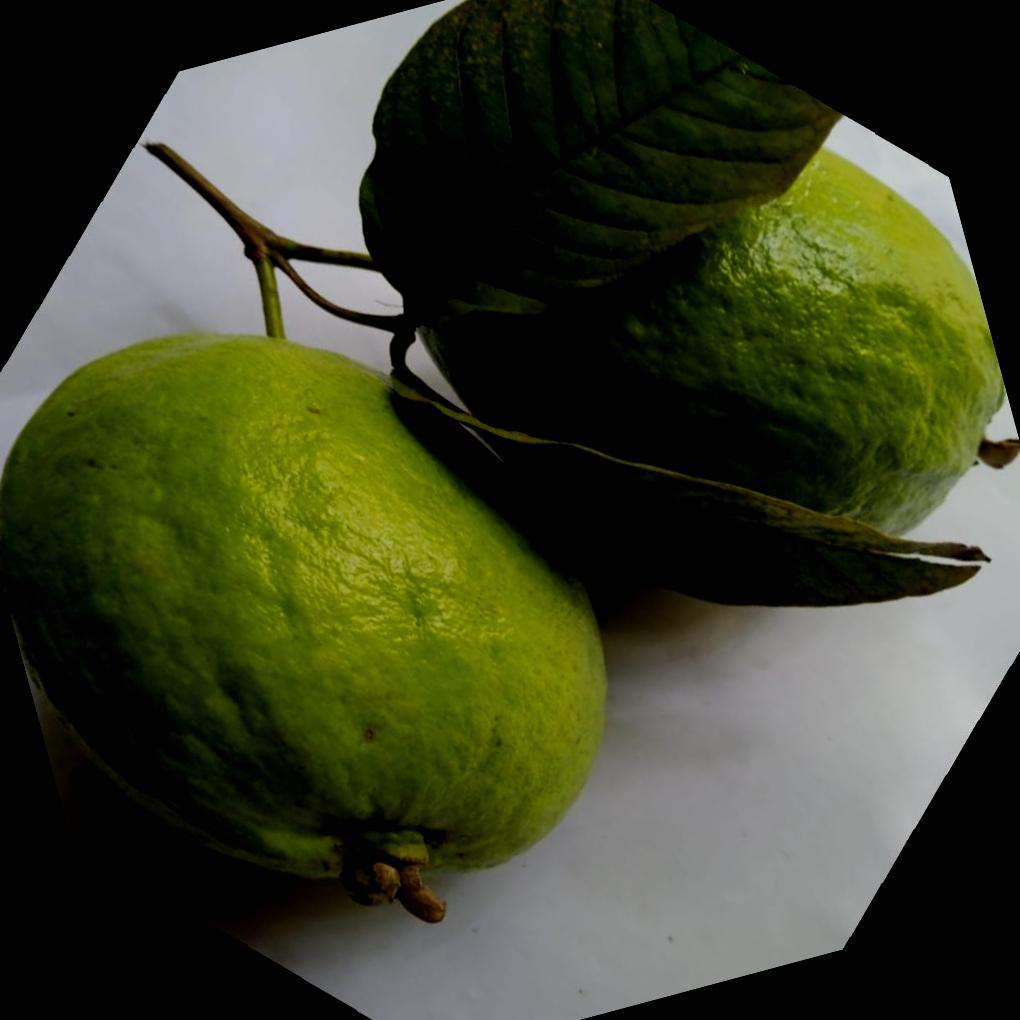FreshGuava: (0, 0, 1012, 927)
